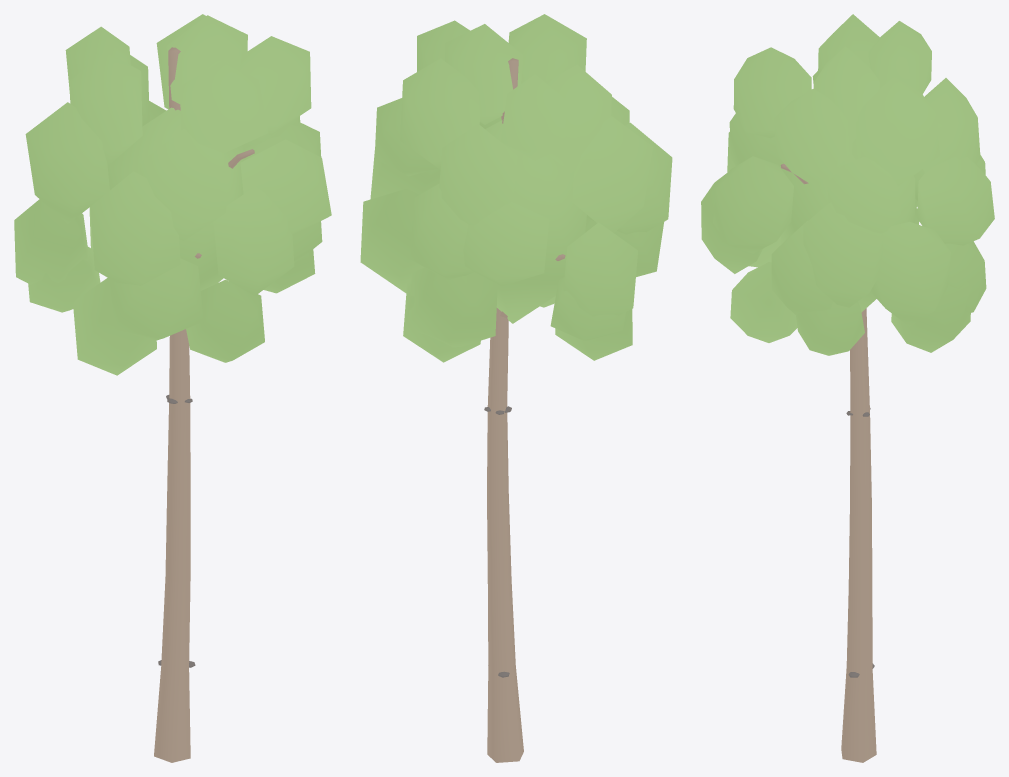
File: Blender_Aspen_1_Far.glb
3 views of the same model, side by side, from view 1: azimuth 30°, elevation 25°; view 2: azimuth 150°, elevation 25°; view 3: azimuth 270°, elevation 25° (orthographic). The views are drawn at different scales.
Parts seen in each view (by area): view 1: Blender_Aspen_1_Far; view 2: Blender_Aspen_1_Far; view 3: Blender_Aspen_1_Far.
Part boxes in pixels (<box>): Blender_Aspen_1_Far: <box>14,14,331,762</box>; Blender_Aspen_1_Far: <box>360,14,672,762</box>; Blender_Aspen_1_Far: <box>701,14,994,762</box>.
Bounding box in the file's own units: 5.91 × 14.69 × 5.42.
